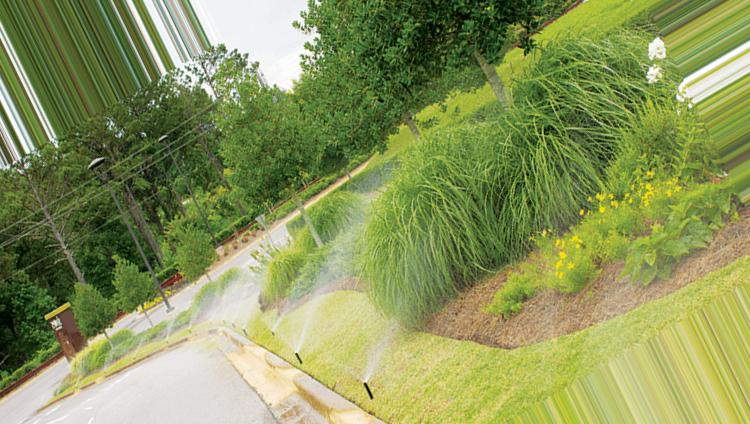patch: (447, 309, 520, 343), (528, 304, 585, 332), (595, 281, 628, 312), (716, 229, 741, 260), (674, 264, 692, 287), (634, 285, 653, 304)
